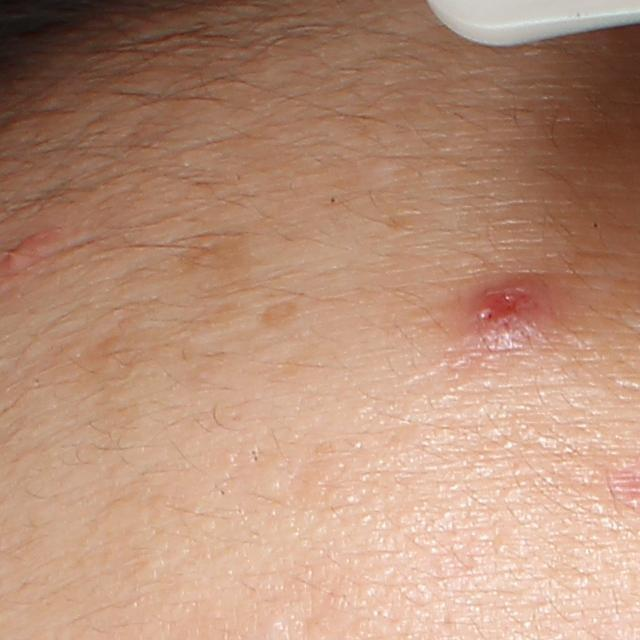papule: (454, 276, 559, 350)
